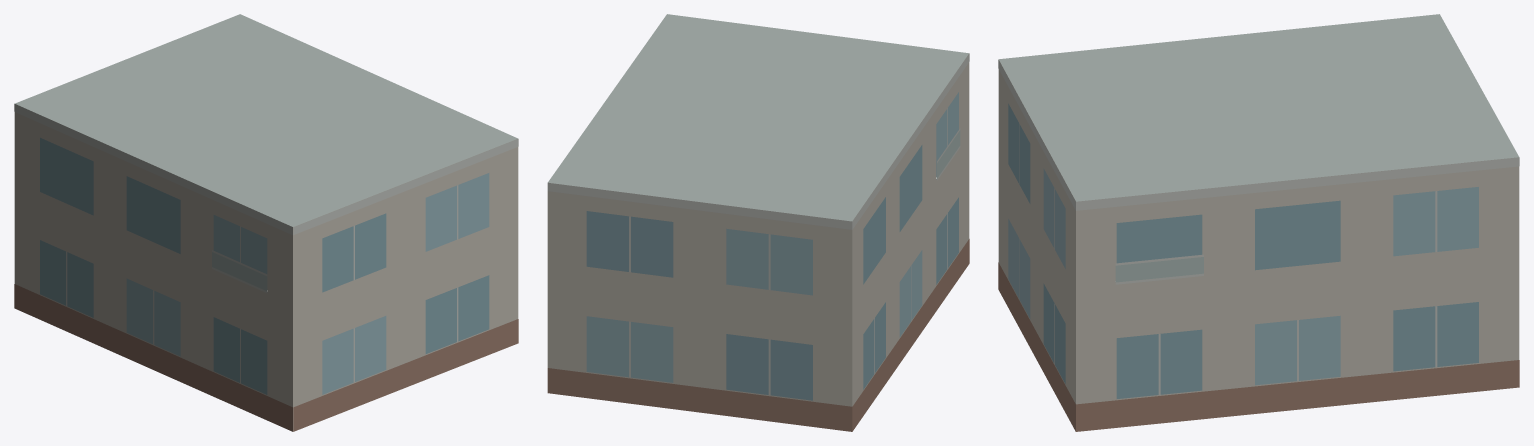
Rendered from survey-upis-32682910.glb.
The picture shows the model from 3 angles, left to right: view 1: azimuth 30°, elevation 25°; view 2: azimuth 150°, elevation 25°; view 3: azimuth 270°, elevation 25°; orthographic projection. The views are drawn at different scales.
Visible parts, largest first — view 1: survey-upis-32682910.tmp; view 2: survey-upis-32682910.tmp; view 3: survey-upis-32682910.tmp.
Part boxes in pixels (<box>): survey-upis-32682910.tmp: <box>14,14,518,431</box>; survey-upis-32682910.tmp: <box>547,14,969,431</box>; survey-upis-32682910.tmp: <box>998,14,1519,431</box>.
Bounding box in the file's own units: 10.68 × 6.1 × 12.52.
